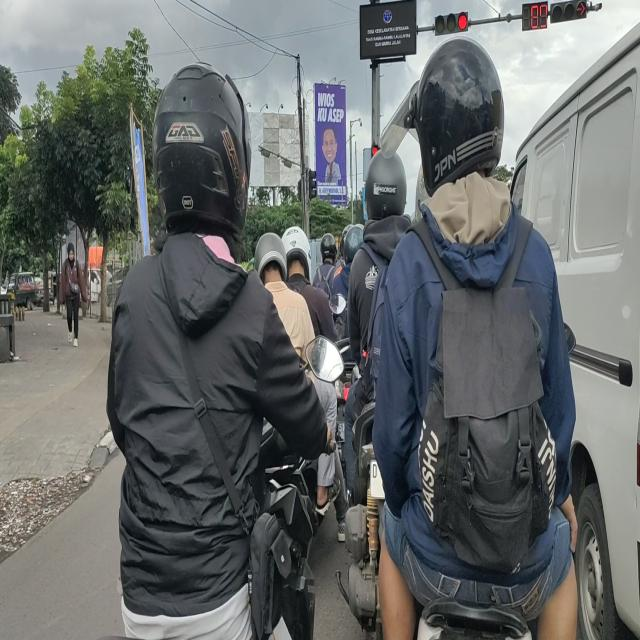helmet: (154, 66, 248, 221), (419, 38, 503, 186), (366, 148, 406, 224), (254, 229, 284, 280), (285, 223, 308, 283), (343, 227, 363, 264), (319, 232, 335, 264)
